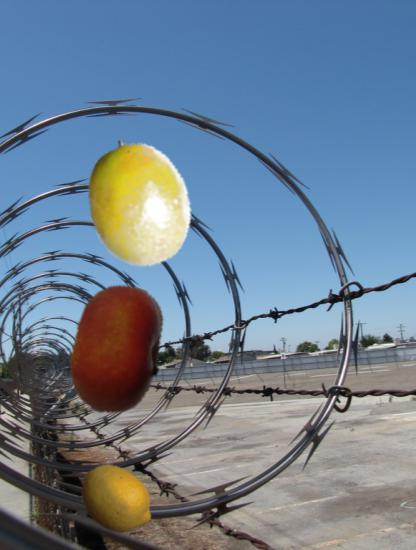Lemon: (77, 460, 157, 540)
Maracuja: (72, 138, 204, 270)
Nectarine: (52, 284, 184, 416)
